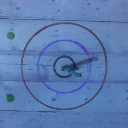Axe Tip: (67, 66, 80, 70)
